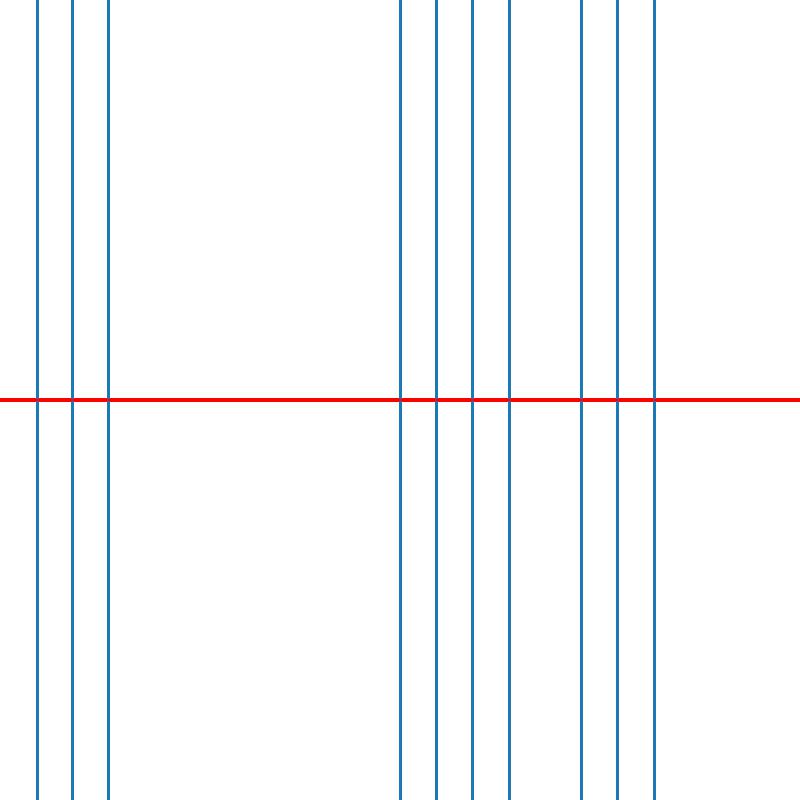root: (32, 396, 40, 404), (432, 396, 440, 404), (650, 396, 658, 404), (578, 396, 585, 404), (505, 396, 512, 404), (396, 396, 403, 404), (69, 396, 76, 404), (614, 396, 621, 404), (105, 396, 112, 404), (469, 396, 476, 404)
